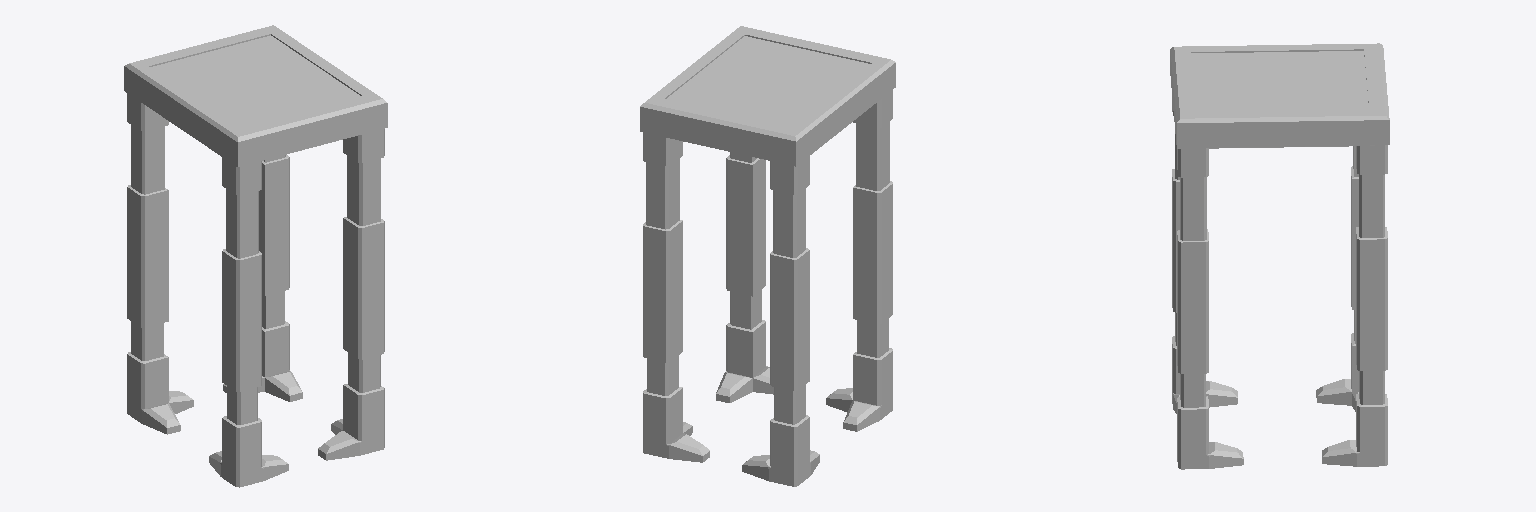
The model's file is Final_TablePos2.obj.
3 views of the same model, side by side, from view 1: azimuth 30°, elevation 25°; view 2: azimuth 150°, elevation 25°; view 3: azimuth 270°, elevation 25° (orthographic).
Visible parts, largest first — view 1: TableTest:pPlane2; view 2: TableTest:pPlane2; view 3: TableTest:pPlane2.
Boxes of the visible parts, x1,y1,x2,y2 form: TableTest:pPlane2: [124, 25, 387, 487]; TableTest:pPlane2: [640, 26, 895, 486]; TableTest:pPlane2: [1170, 43, 1389, 469].
Size of the model in its own units: 50.49 by 106 by 60.